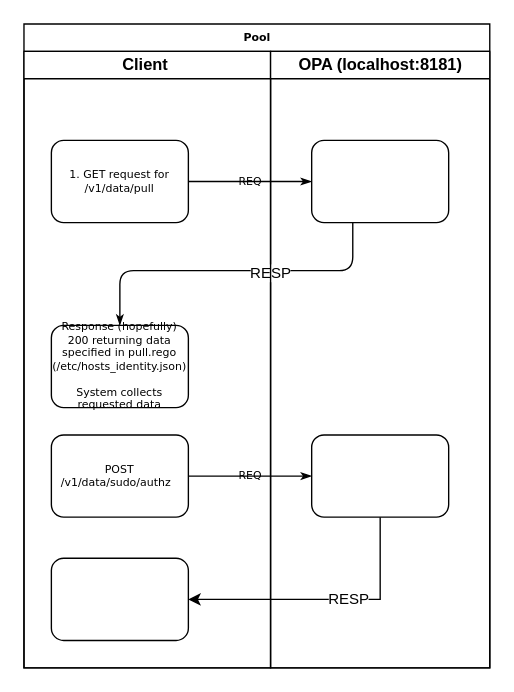
This 514x692 diagram has some shape labels left out. Each missing label, with the centre of its shape:
Requested data posted to this endpoint for the policy to consume.: pixel 379 475
Response (200) - result of the policy evaluation returned: pixel 119 598
What should be retrieved from the system?: pixel 379 181
